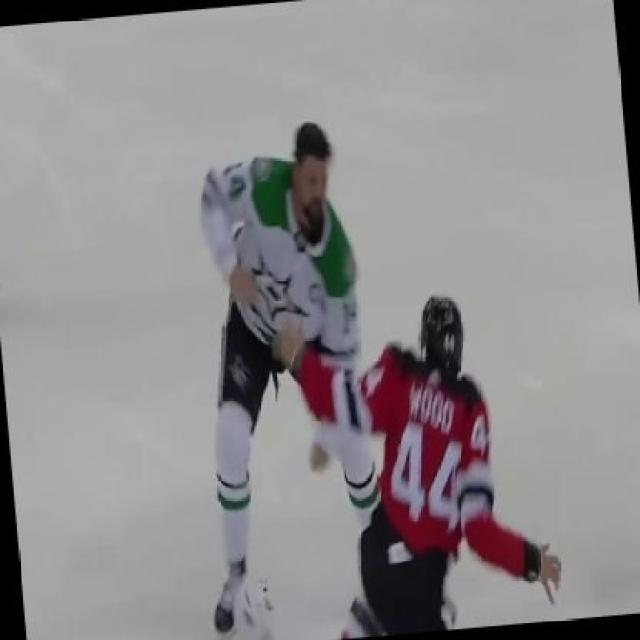fight: (188, 108, 568, 635)
